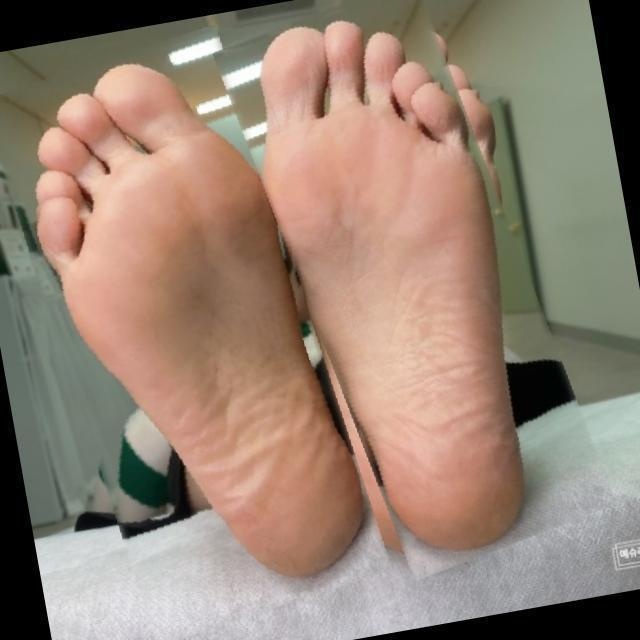No_Shoes: (18, 61, 358, 566), (264, 25, 504, 553)
